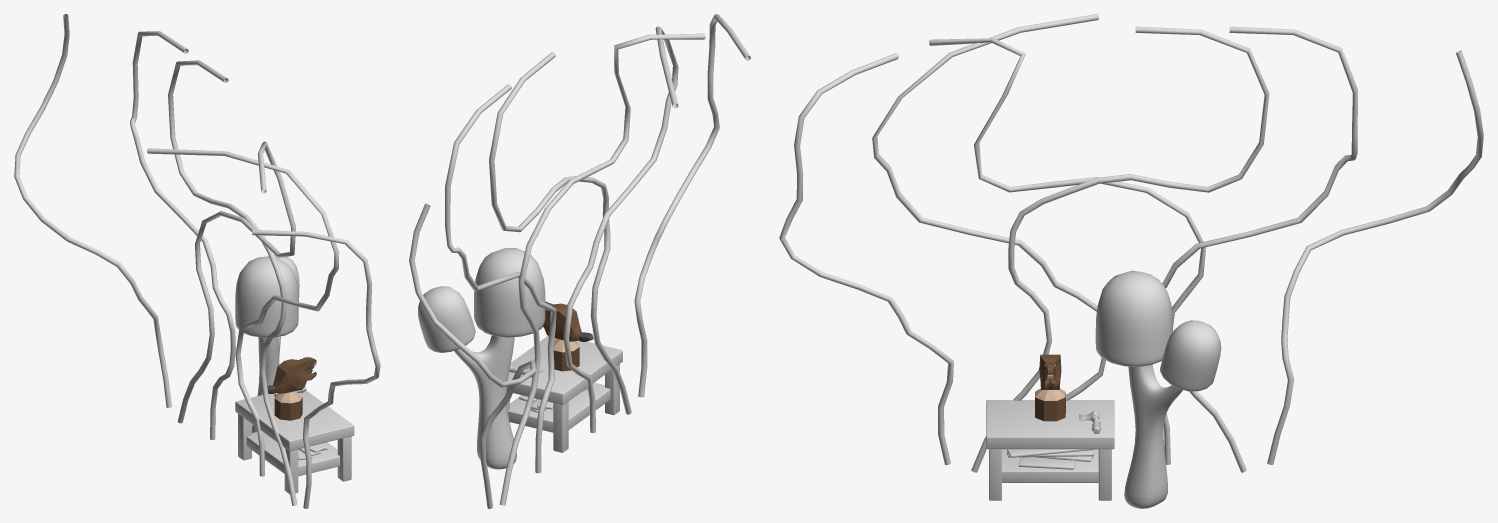
Rendered from LevelEnvironmentWoodPatch.fbx.
The picture shows the model from 3 angles, left to right: view 1: azimuth 30°, elevation 25°; view 2: azimuth 150°, elevation 25°; view 3: azimuth 270°, elevation 25°; orthographic projection. The views are drawn at different scales.
Visible parts, largest first — view 1: Vines, Desk, TreeLeaves, Beaver, Tree; view 2: Vines, TreeLeaves, Desk, Tree, Beaver; view 3: Vines, Desk, TreeLeaves, Tree, Beaver.
Boxes of the visible parts, x1=… form: Vines: x1=14, y1=14, x2=380, y2=508; Desk: x1=235, y1=390, x2=354, y2=494; TreeLeaves: x1=235, y1=254, x2=299, y2=337; Beaver: x1=262, y1=357, x2=316, y2=420; Tree: x1=252, y1=336, x2=280, y2=432; Vines: x1=409, y1=14, x2=750, y2=508; TreeLeaves: x1=418, y1=248, x2=545, y2=352; Desk: x1=506, y1=336, x2=622, y2=452; Tree: x1=454, y1=335, x2=516, y2=469; Beaver: x1=542, y1=301, x2=593, y2=371; Vines: x1=779, y1=14, x2=1483, y2=472; Desk: x1=986, y1=400, x2=1114, y2=500; TreeLeaves: x1=1095, y1=270, x2=1221, y2=391; Tree: x1=1124, y1=364, x2=1182, y2=508; Beaver: x1=1035, y1=354, x2=1065, y2=421.
Bounding box in the file's own units: 442 × 844 × 1196.
